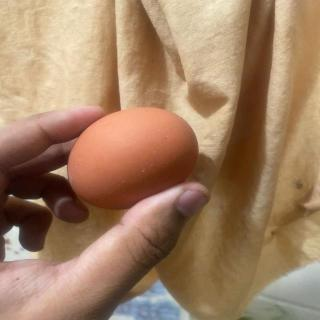Telur: (68, 108, 202, 210)
